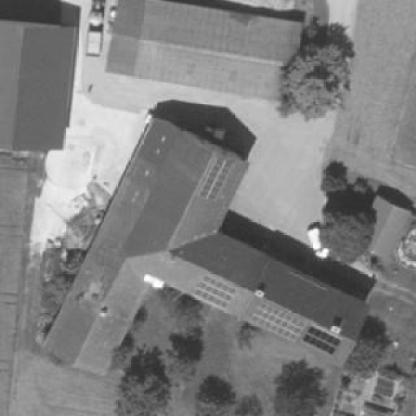solar-pv-panel: (251, 301, 306, 343), (198, 155, 234, 201), (193, 275, 237, 311), (302, 324, 343, 356)
